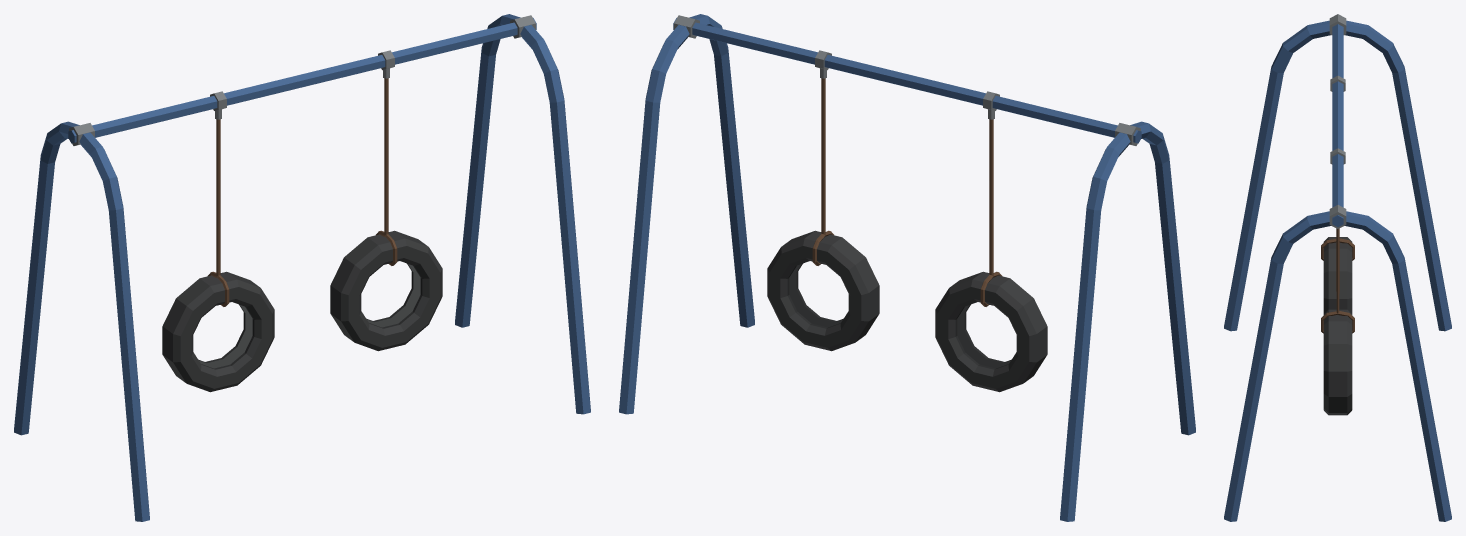
Rendered from SM_Props_City_PlayGround_Equipment_Swing_02.fbx.
The picture shows the model from 3 angles, left to right: view 1: azimuth 30°, elevation 25°; view 2: azimuth 150°, elevation 25°; view 3: azimuth 270°, elevation 25°; orthographic projection. The views are drawn at different scales.
Visible parts, largest first — view 1: SM_Props_City_PlayGround_Equipment_Swing_02; view 2: SM_Props_City_PlayGround_Equipment_Swing_02; view 3: SM_Props_City_PlayGround_Equipment_Swing_02.
Boxes of the visible parts, <box> form: SM_Props_City_PlayGround_Equipment_Swing_02: <box>14,14,590,521</box>; SM_Props_City_PlayGround_Equipment_Swing_02: <box>619,14,1195,521</box>; SM_Props_City_PlayGround_Equipment_Swing_02: <box>1224,14,1451,521</box>.
Bounding box in the file's own units: 440 × 320 × 212.
